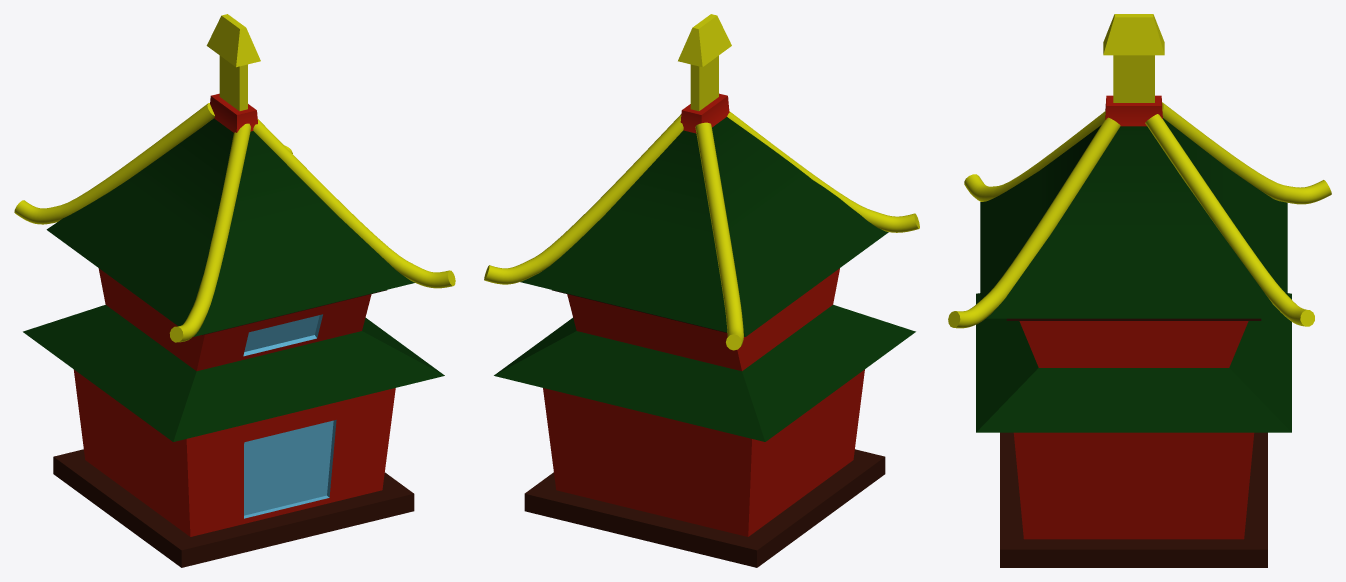
The model's file is Edificio 2.fbx.
3 views of the same model, side by side, from view 1: azimuth 30°, elevation 25°; view 2: azimuth 150°, elevation 25°; view 3: azimuth 270°, elevation 25° (orthographic). The views are drawn at different scales.
Visible parts, largest first — view 1: Mesh (2), Mesh; view 2: Mesh (2), Mesh; view 3: Mesh (2), Mesh.
Part boxes in pixels (x1,y1,x2,y2): Mesh (2): (23,14,444,567); Mesh: (14,103,455,342); Mesh (2): (494,14,915,567); Mesh: (484,111,919,350); Mesh (2): (976,14,1291,567); Mesh: (948,102,1331,328).
Bounding box in the file's own units: 364 × 590 × 416.
